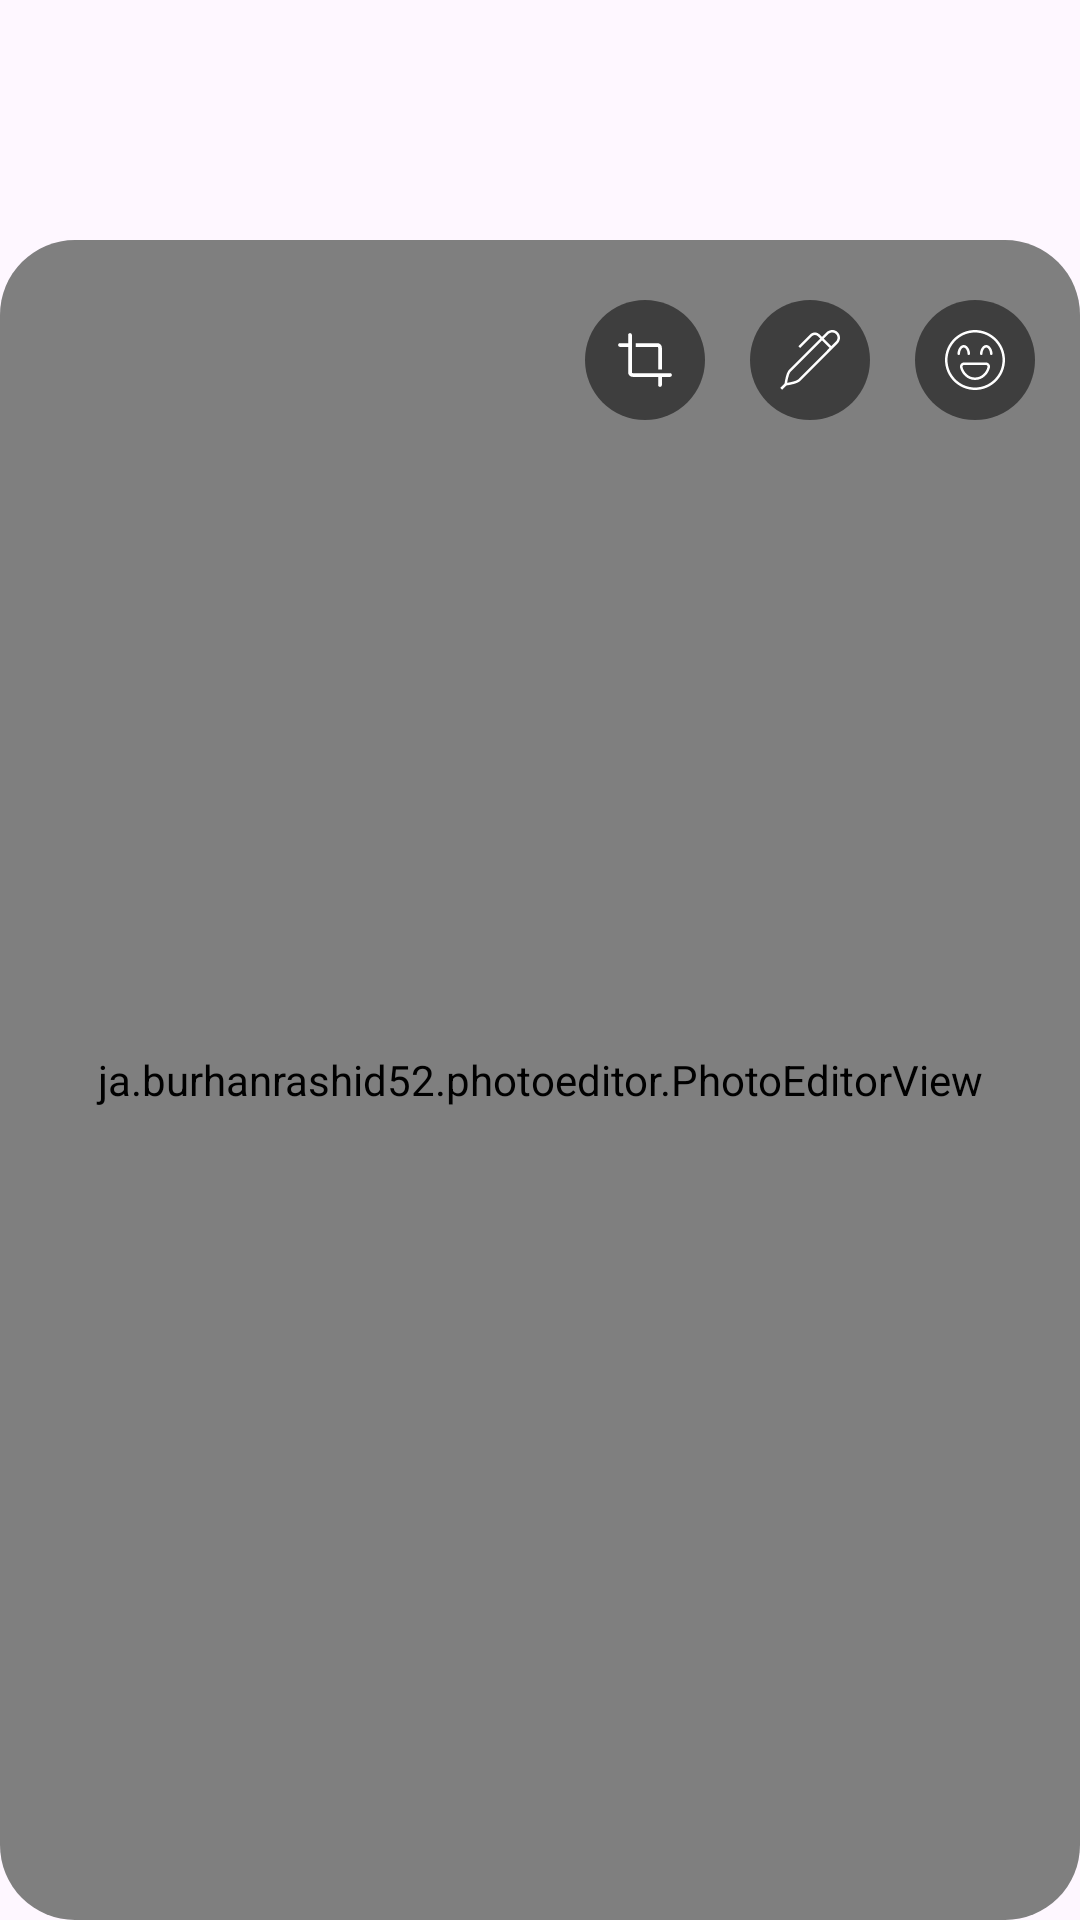

Named icons in this screenshot (1080 x 1920) and their centers, (x=x, y=y):
crop: (x=645, y=360)
edit iv: (x=810, y=360)
emoji iv: (x=975, y=360)
